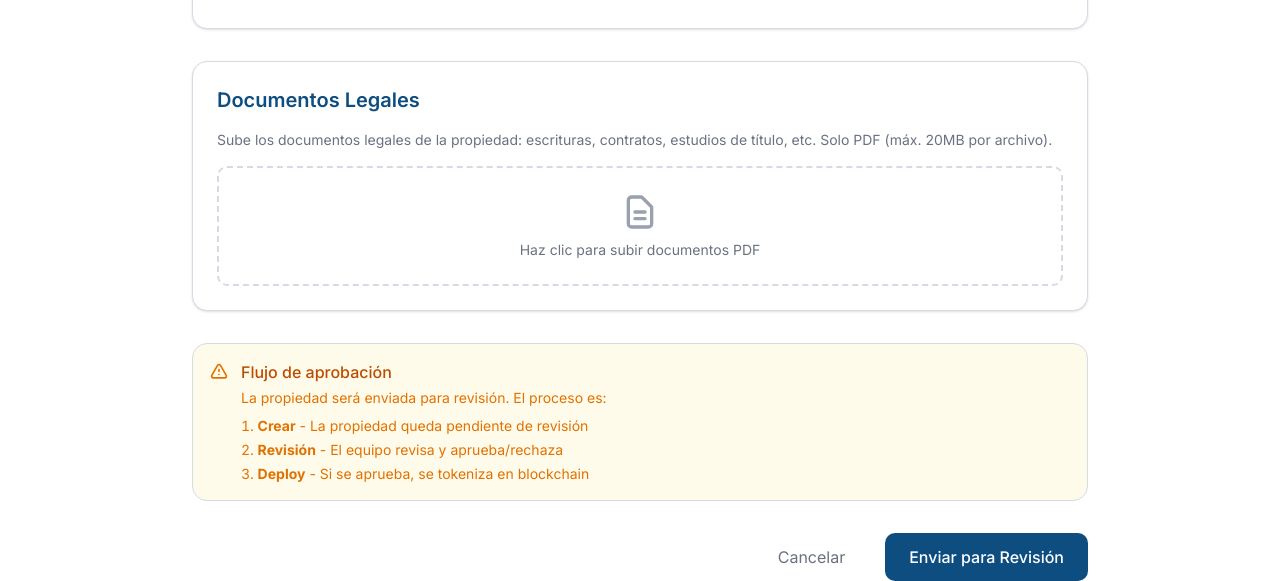
Scenario: NewPropertyPage › Form Submission › should show validation errors when submitting empty form
(page scrolled)
What coordinates should you click on to do the following:
click the button "Enviar para Revisión"
I would click on:
 (987, 557)
Its box is [885,533,1088,580].
(page scrolled)
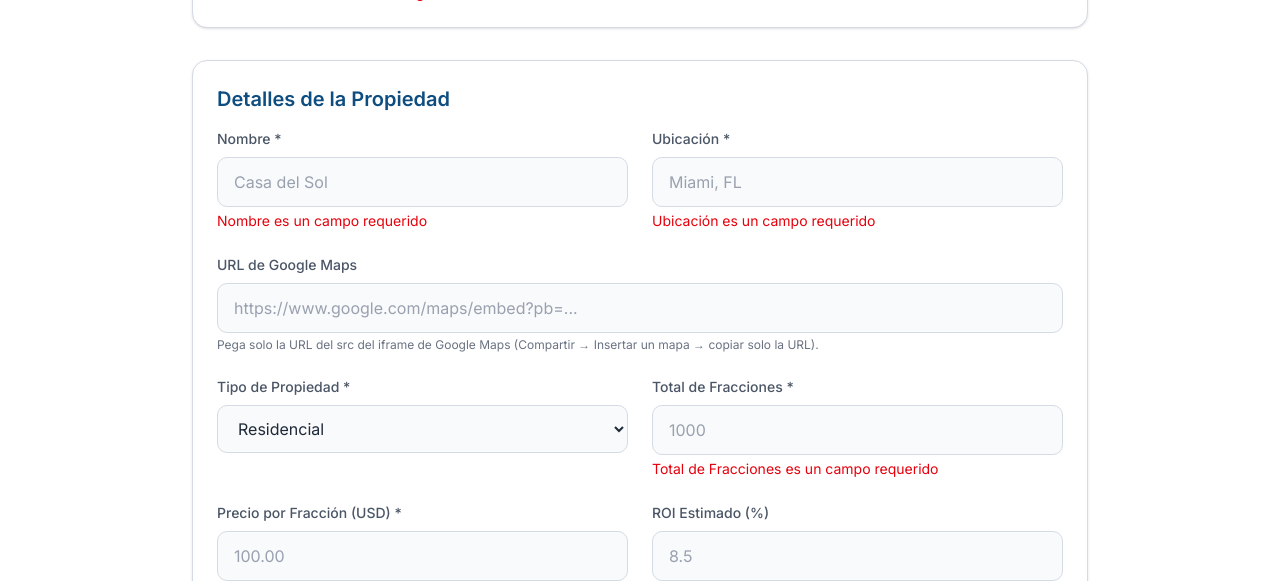
expect the text "Nombre es un campo requerido" is shown: met, box [217,212,427,229]
